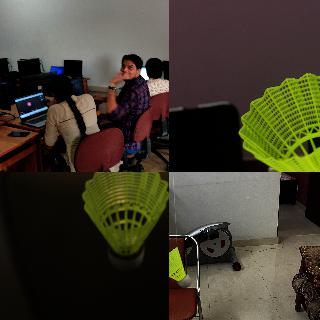shuttlecock: (81, 172, 168, 273), (238, 72, 319, 171), (169, 247, 192, 288)
